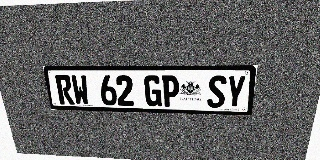2: (115, 75, 134, 106)
6: (99, 75, 118, 106)
G: (144, 75, 162, 107)
P: (162, 75, 179, 107)
R: (55, 75, 75, 105)
S: (207, 75, 227, 108)
W: (70, 75, 90, 105)
Y: (225, 75, 246, 108)
